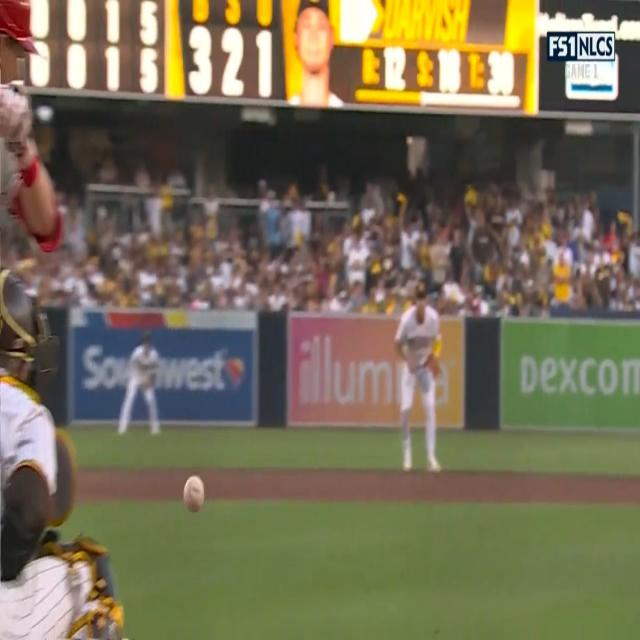baseball: (183, 474, 205, 514)
